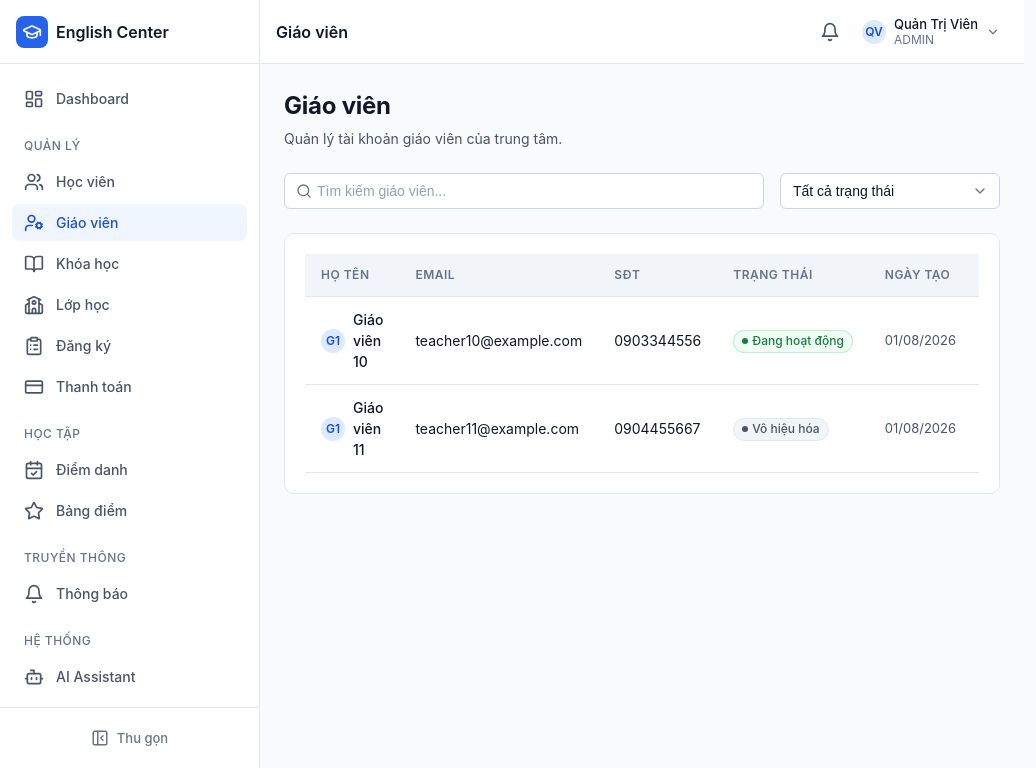
Test: AdminTeachersPage › filters teachers by status
The width and height of the screenshot is (1036, 768).
Check: the text "Giáo viên 10" is shown, box 353,309 -> 383,372
Select "Vô hiệu hóa" in the dropdown named "Lọc theo trạng thái": (890, 191) 780,173 -> 1000,209
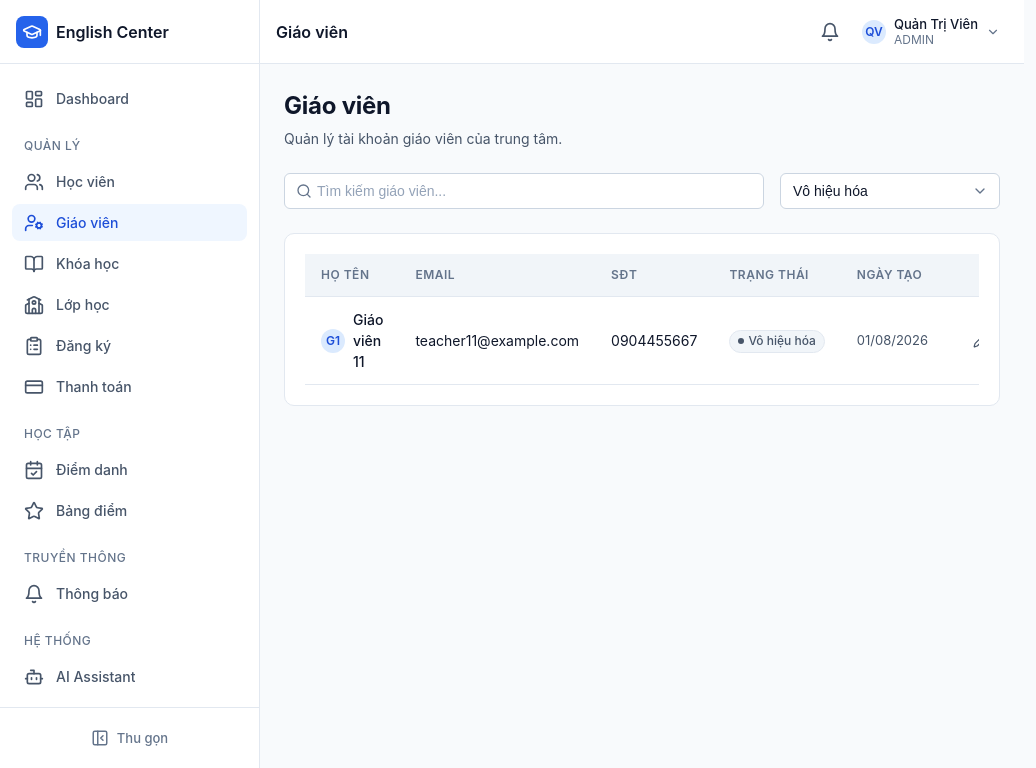
Check: the text "Giáo viên 11" is shown, box 353,309 -> 383,372
Check: the text "Giáo viên 10" is gone
